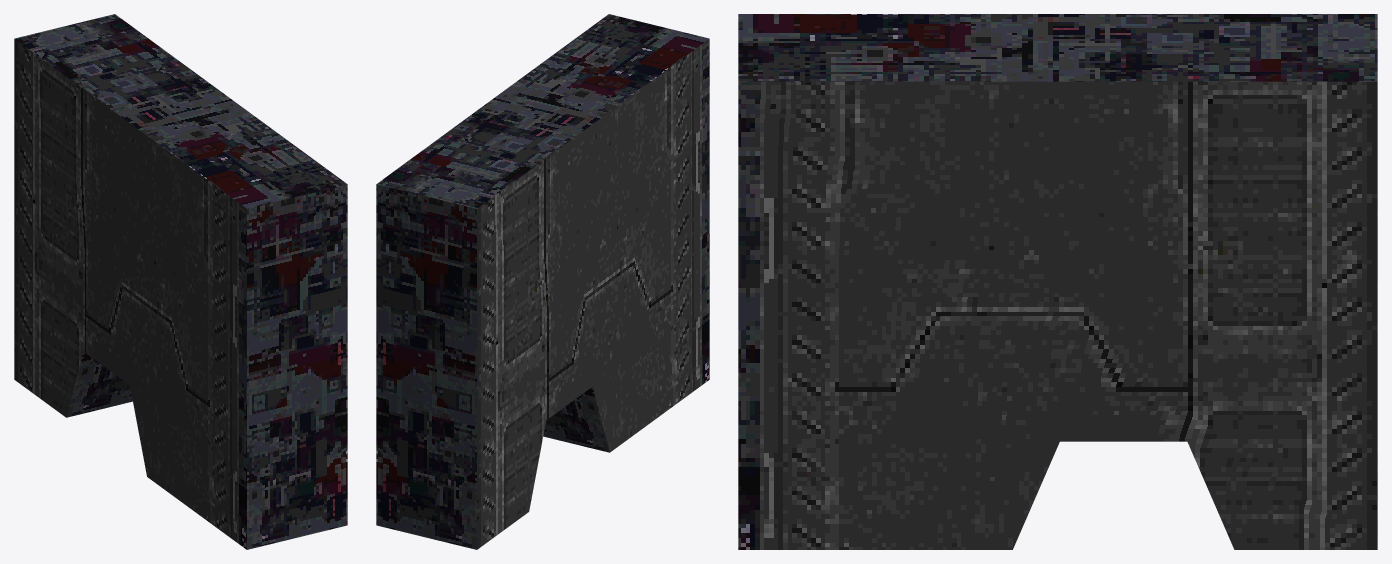
File: Door_wall_sizeUP-col.glb
3 views of the same model, side by side, from view 1: azimuth 30°, elevation 25°; view 2: azimuth 150°, elevation 25°; view 3: azimuth 270°, elevation 25° (orthographic). The views are drawn at different scales.
Visible parts, largest first — view 1: Door_wall_sizeUP-col; view 2: Door_wall_sizeUP-col; view 3: Door_wall_sizeUP-col.
Part boxes in pixels (x1,y1,x2,y2): Door_wall_sizeUP-col: (14, 14, 347, 549); Door_wall_sizeUP-col: (376, 14, 709, 549); Door_wall_sizeUP-col: (738, 14, 1377, 549).
Size of the model in its own units: 0.5 by 1.62 by 2.
1 material, 1 textured.
